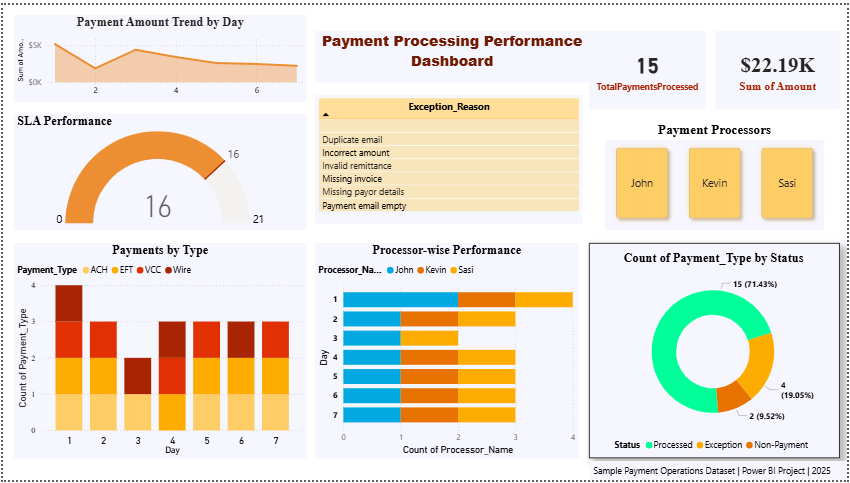

The dashboard page shown, as its layout file describes it:
{"tool":"powerbi","page":{"name":"Page 1","canvas":[1280,720],"ordinal":0},"visuals":[{"type":"card","fields":{"Values":["Sheet1.Amount"]},"box":[1078.5,39.5,190.2,118.5],"z":0},{"type":"columnChart","title":"Payments by Type","fields":{"Category":["Sheet1.Date.Variation.Date Hierarchy.Year","Sheet1.Date.Variation.Date Hierarchy.Quarter","Sheet1.Date.Variation.Date Hierarchy.Month","Sheet1.Date.Variation.Date Hierarchy.Day"],"Y":["Sheet1.Payment_Type"],"Series":["Sheet1.Payment_Type"]},"box":[16.1,360,443.4,326.3],"z":1000},{"type":"donutChart","fields":{"Category":["Sheet1.Status"],"Y":["Sheet1.Payment_Type"]},"box":[888.3,360,380.5,326.3],"z":2000},{"type":"stackedAreaChart","title":"Payment Amount Trend by Day","fields":{"Category":["Sheet1.Date.Variation.Date Hierarchy.Year","Sheet1.Date.Variation.Date Hierarchy.Quarter","Sheet1.Date.Variation.Date Hierarchy.Month","Sheet1.Date.Variation.Date Hierarchy.Day"],"Y":["Sheet1.Amount"]},"box":[16.1,14.6,443.4,131.7],"z":3000},{"type":"gauge","title":"SLA Performance","fields":{"Y":["Sheet1.Contslamet"]},"box":[16.1,165.4,443.4,175.6],"z":4000},{"type":"tableEx","fields":{"Values":["Sheet1.Exception_Reason"]},"box":[472.7,136.1,405.4,194.6],"z":5000},{"type":"barChart","title":"Processor-wise Performance","fields":{"Category":["Sheet1.Date.Variation.Date Hierarchy.Year","Sheet1.Date.Variation.Date Hierarchy.Quarter","Sheet1.Date.Variation.Date Hierarchy.Month","Sheet1.Date.Variation.Date Hierarchy.Day"],"Series":["Sheet1.Processor_Name"],"Y":["Sheet1.Processor_Name"]},"box":[472.7,360,399.5,326.3],"z":6000},{"type":"card","fields":{"Values":["Sheet1.TotalPaymentsProcessed"]},"box":[888.3,39.5,177.1,118.5],"z":7000},{"type":"textbox","box":[472.7,39.5,415.6,77.6],"z":7001},{"type":"advancedSlicerVisual","title":"Payment Processors","fields":{"Values":["Sheet1.Processor_Name"]},"box":[911.7,177.1,332.2,163.9],"z":7002},{"type":"textbox","box":[889.8,690.7,390.7,29.3],"z":7003}]}

Visuals, with their boxes in screenshot pixels (x1, y1, x2, y2), scaled from the page's 1280x720 canvas onto the 850x483 screenshot:
card - Sheet1.Amount: {"left": 716, "top": 26, "right": 842, "bottom": 106}
"Payments by Type" columnChart: {"left": 11, "top": 241, "right": 305, "bottom": 460}
donutChart - Sheet1.Status x Sheet1.Payment_Type: {"left": 590, "top": 241, "right": 843, "bottom": 460}
"Payment Amount Trend by Day" stackedAreaChart: {"left": 11, "top": 10, "right": 305, "bottom": 98}
"SLA Performance" gauge: {"left": 11, "top": 111, "right": 305, "bottom": 229}
tableEx - Sheet1.Exception_Reason: {"left": 314, "top": 91, "right": 583, "bottom": 222}
"Processor-wise Performance" barChart: {"left": 314, "top": 241, "right": 579, "bottom": 460}
card - Sheet1.TotalPaymentsProcessed: {"left": 590, "top": 26, "right": 707, "bottom": 106}
textbox: {"left": 314, "top": 26, "right": 590, "bottom": 79}
"Payment Processors" advancedSlicerVisual: {"left": 605, "top": 119, "right": 826, "bottom": 229}
textbox: {"left": 591, "top": 463, "right": 849, "bottom": 482}
